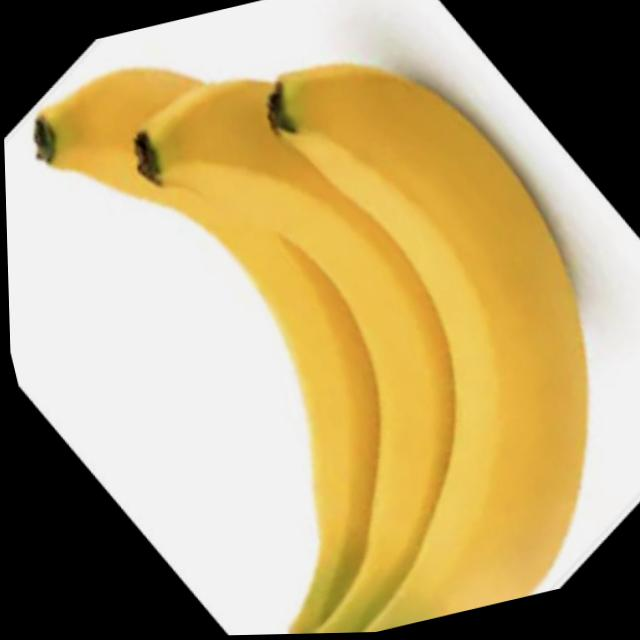Banana: (15, 0, 640, 640)
